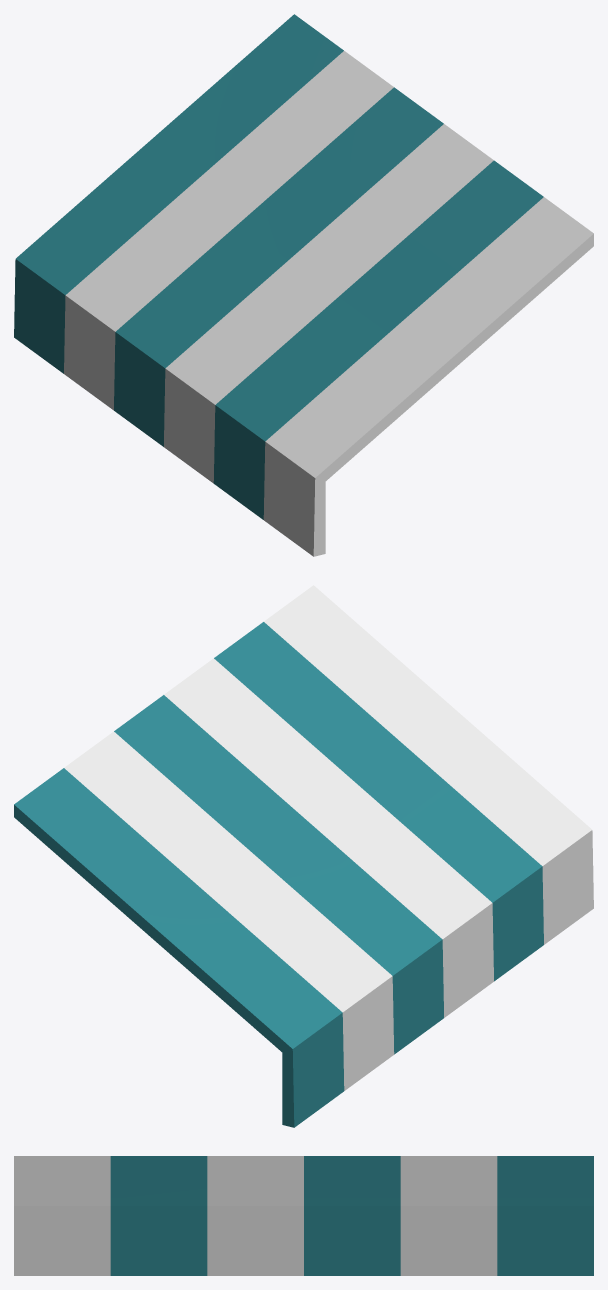
Rendered from Awning_2_K.fbx.
3 renders of one model, top to bottom at view 1: azimuth 30°, elevation 25°; view 2: azimuth 150°, elevation 25°; view 3: azimuth 270°, elevation 25°, orthographic. The views are drawn at different scales.
Parts seen in each view (by area): view 1: Awning_2_K; view 2: Awning_2_K; view 3: Awning_2_K.
Boxes of the visible parts, x1,y1,x2,y2 form: Awning_2_K: [14, 14, 593, 556]; Awning_2_K: [14, 585, 593, 1127]; Awning_2_K: [14, 1156, 593, 1275].
Size of the model in its own units: 111 by 96.45 by 205.
